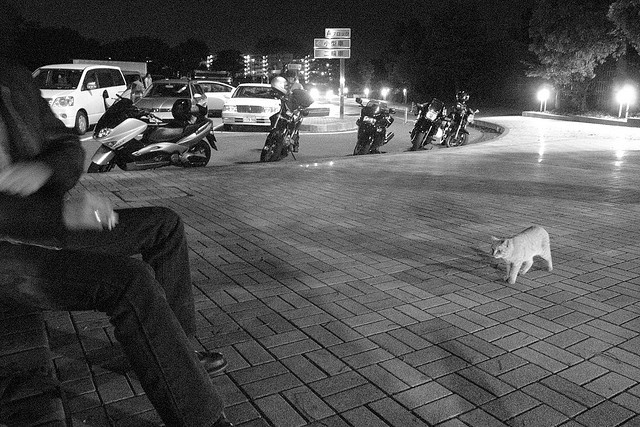non-vehicle: (86, 88, 218, 172), (260, 88, 314, 161), (353, 96, 396, 155), (438, 90, 479, 147), (409, 96, 447, 151)
